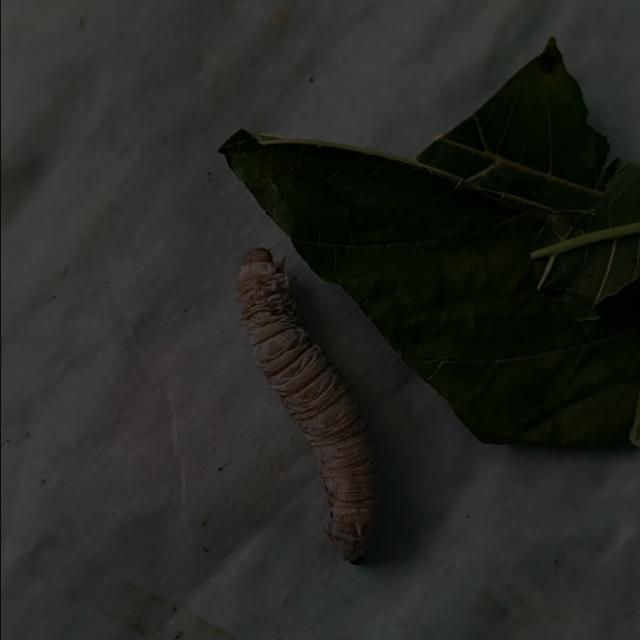Grasserie: (192, 225, 420, 580)
